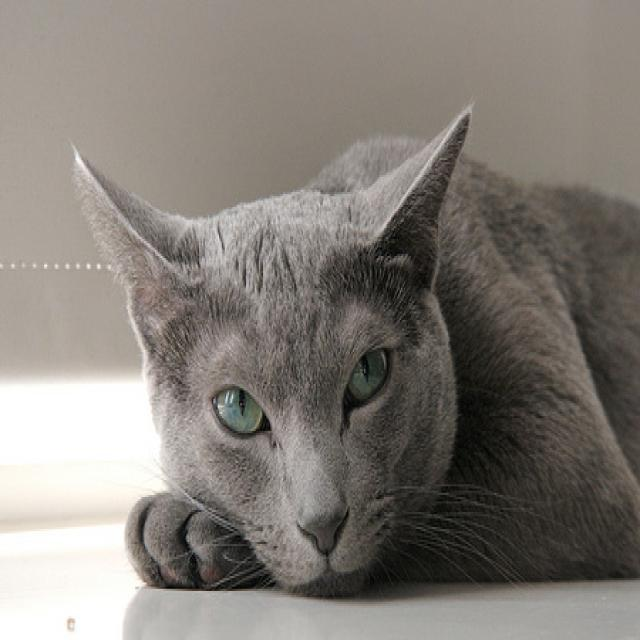Russian Blue: (68, 100, 640, 604)
